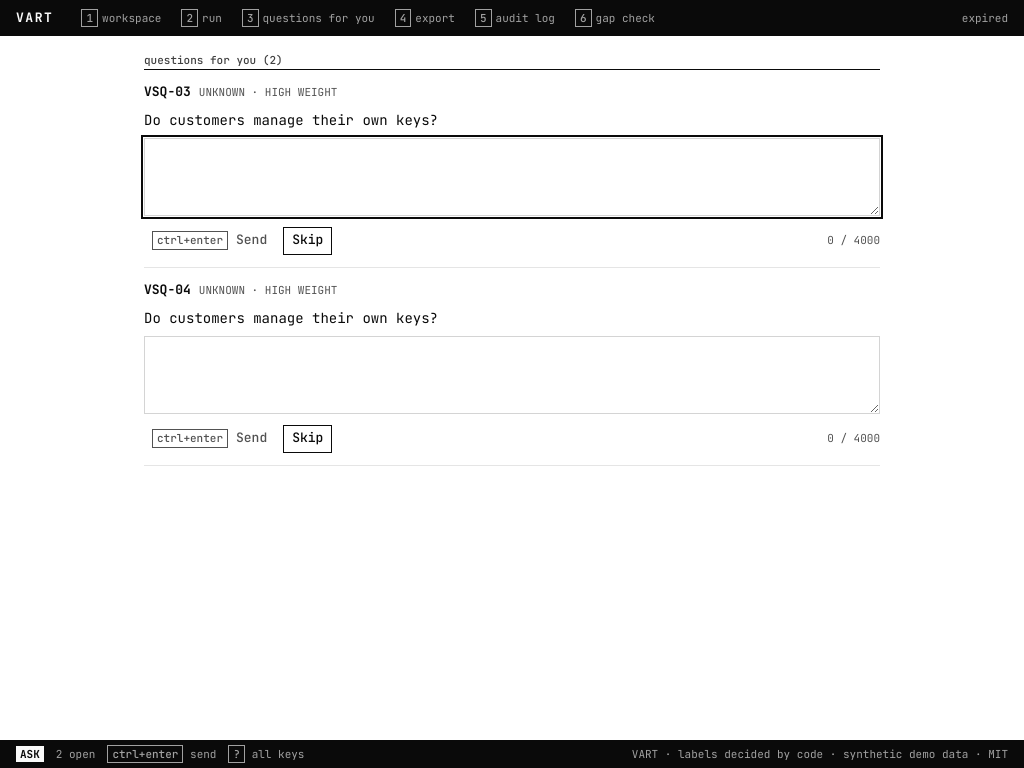
Scenario: Questions › a reload after a 409 does not overwrite a later answer on another card
In the text box named "your answer to VSQ-03": (512, 177) [144,138,880,216], type "a"
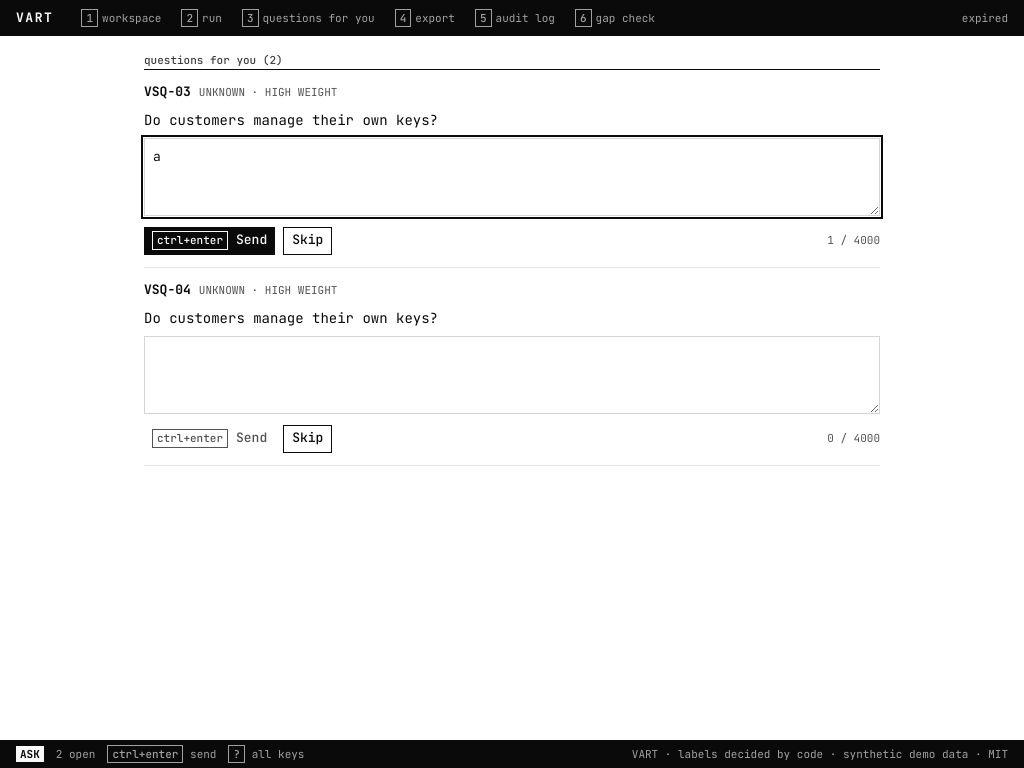
Click the button "ctrl+enter Send" below "VSQ-03": (210, 240) [144,226,275,254]
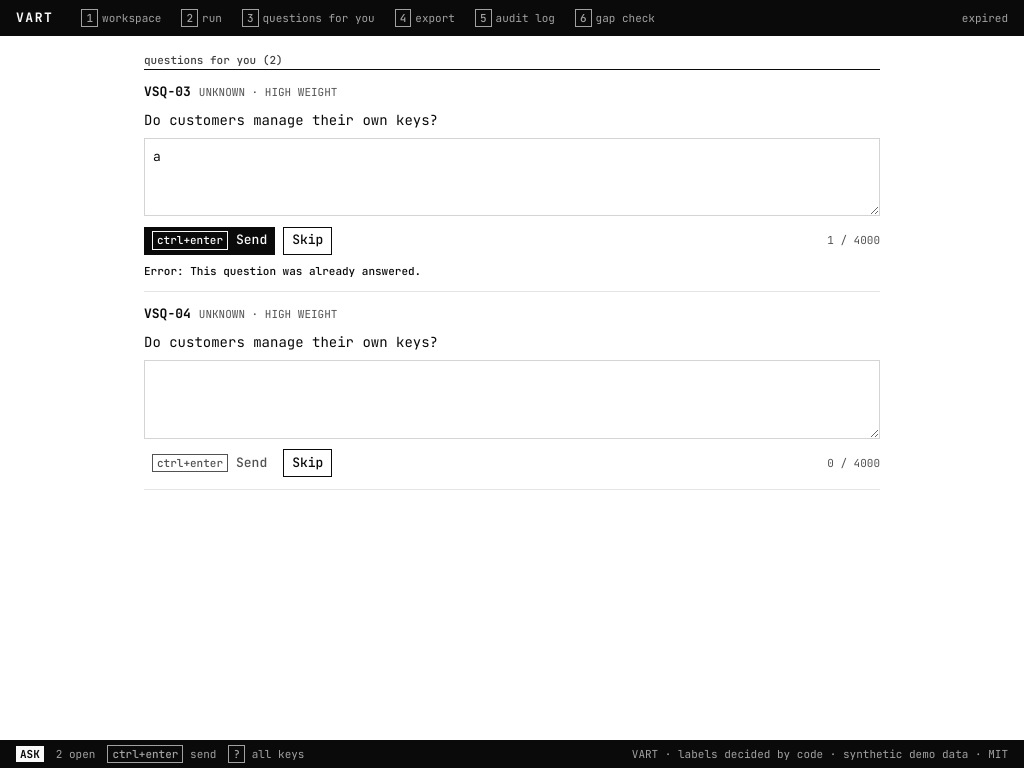
expect the text "Error: This question was already answered." is shown: met, box [144,264,421,278]
In the text box named "your answer to VSQ-04": (512, 400) [144,360,880,439], type "b"
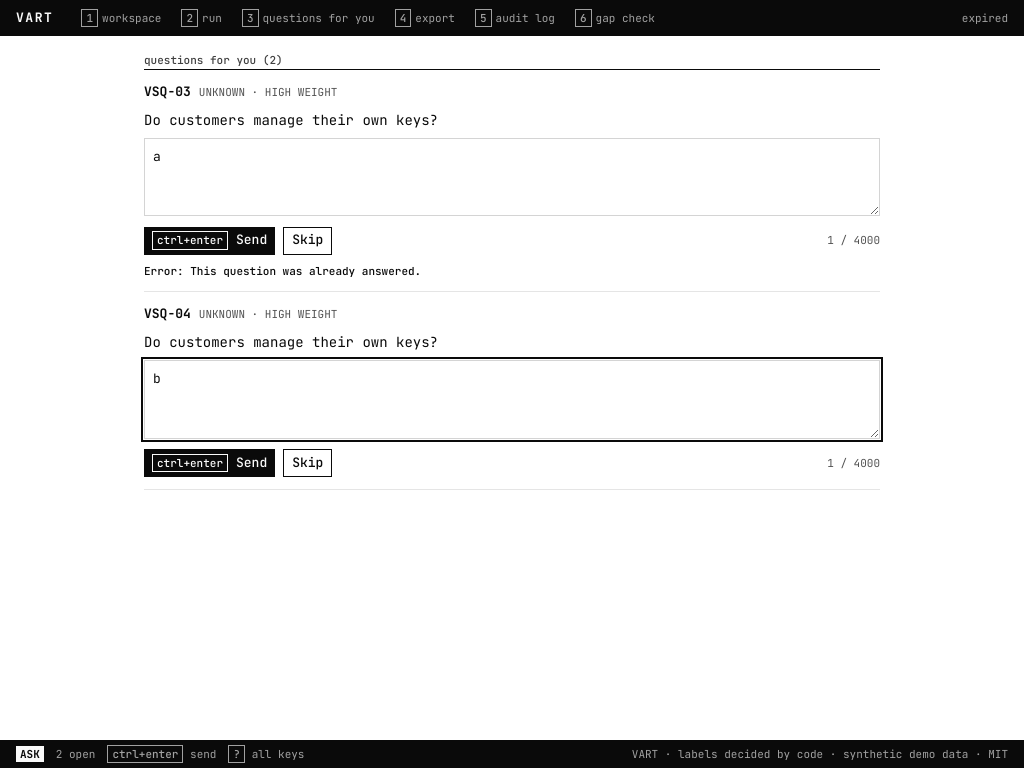
Click the button "ctrl+enter Send" below "VSQ-04": (210, 463) [144,449,275,477]
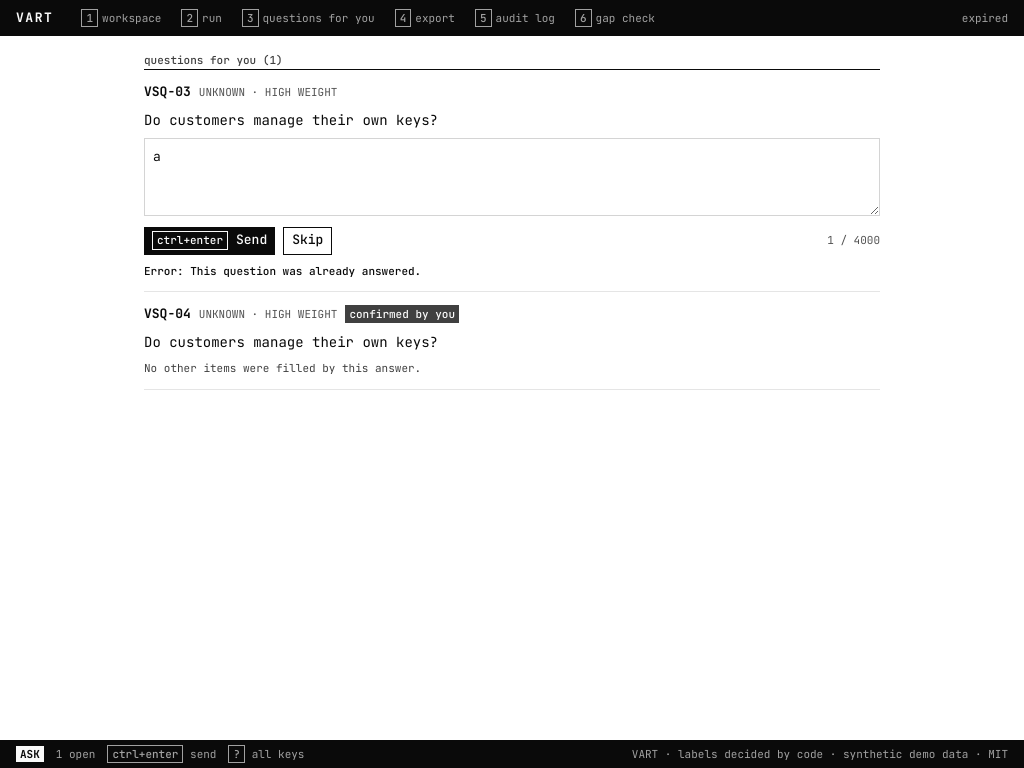
expect the text "confirmed by you" is shown: met, box [345,305,459,323]
